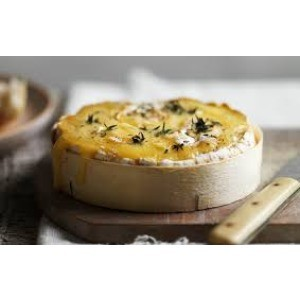cheese_brain food: (76, 103, 232, 206)
